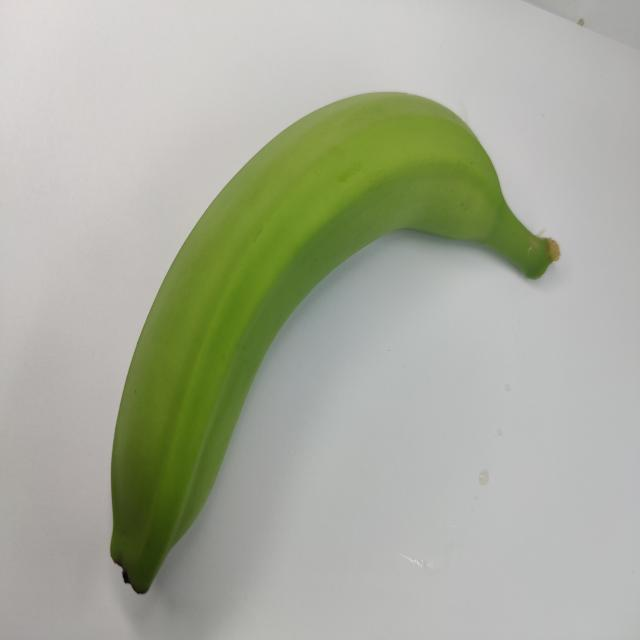raw: (101, 62, 573, 626)
